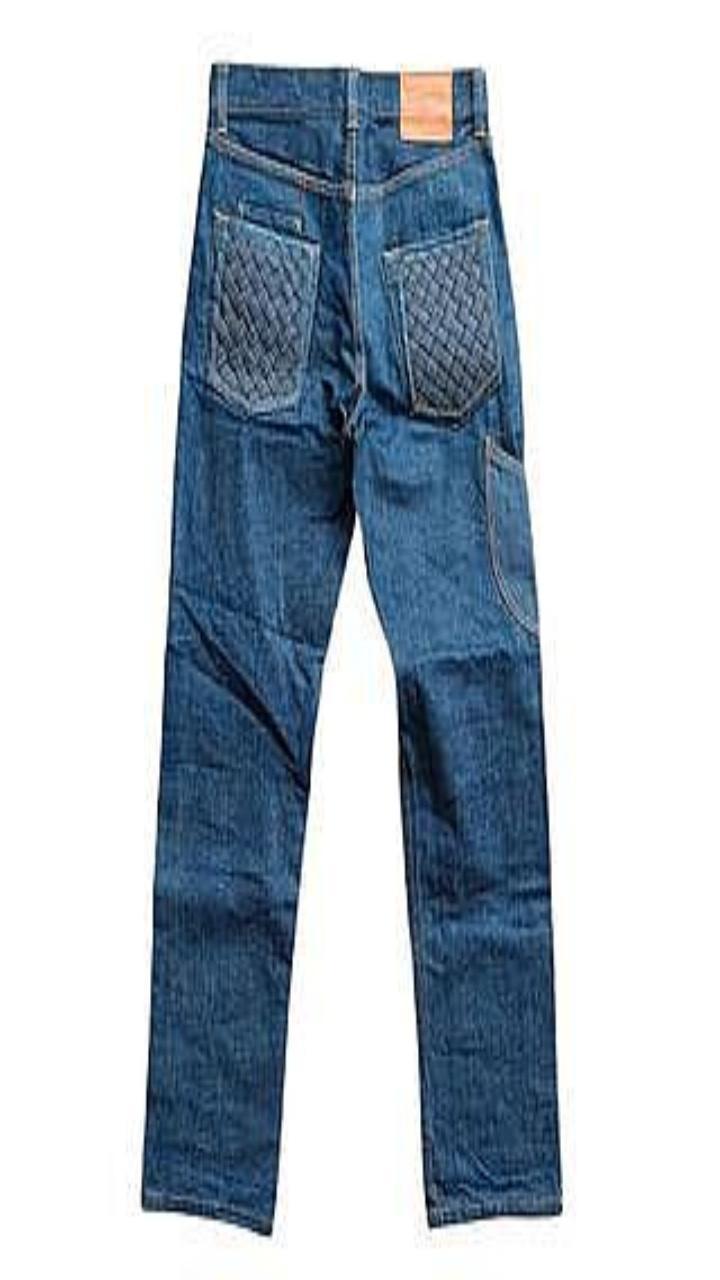Jeans: (143, 64, 560, 1232)
